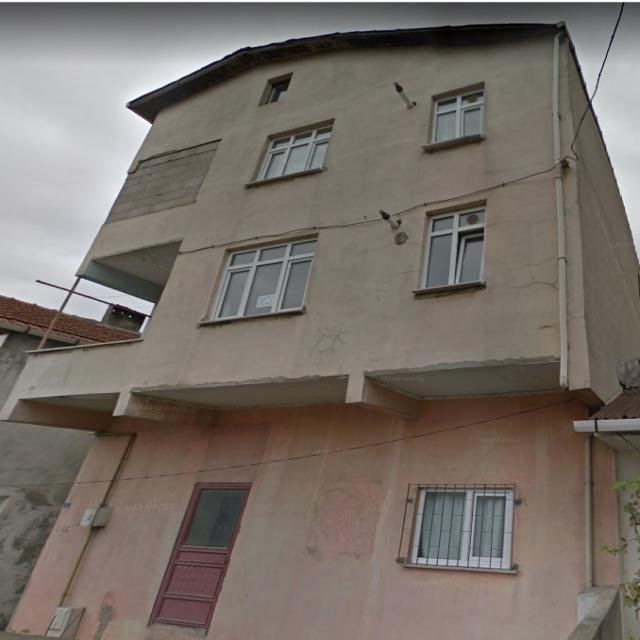Building: (3, 21, 640, 639)
